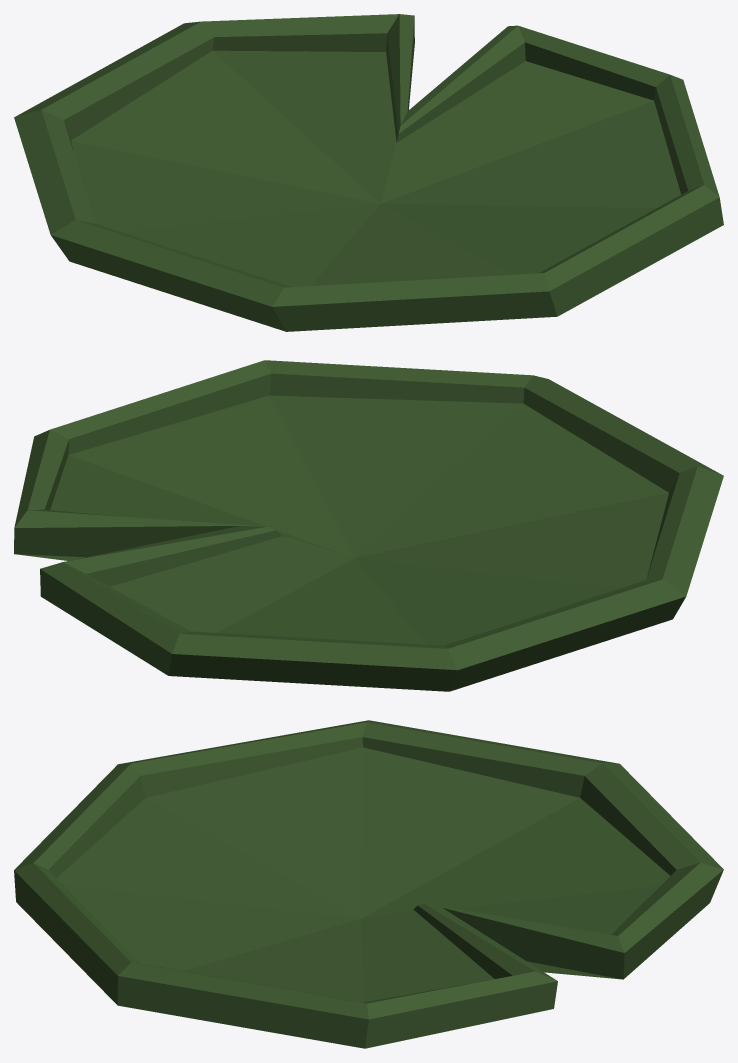
Rendered from lily_pad.glb.
3 renders of one model, top to bottom at view 1: azimuth 30°, elevation 25°; view 2: azimuth 150°, elevation 25°; view 3: azimuth 270°, elevation 25°, orthographic. The views are drawn at different scales.
Visible parts, largest first — view 1: Circle; view 2: Circle; view 3: Circle.
Part boxes in pixels (x1,y1,x2,y2): Circle: [14, 14, 723, 331]; Circle: [14, 360, 723, 691]; Circle: [14, 720, 723, 1048].
Bounding box in the file's own units: 2.27 × 0.3241 × 2.26.
